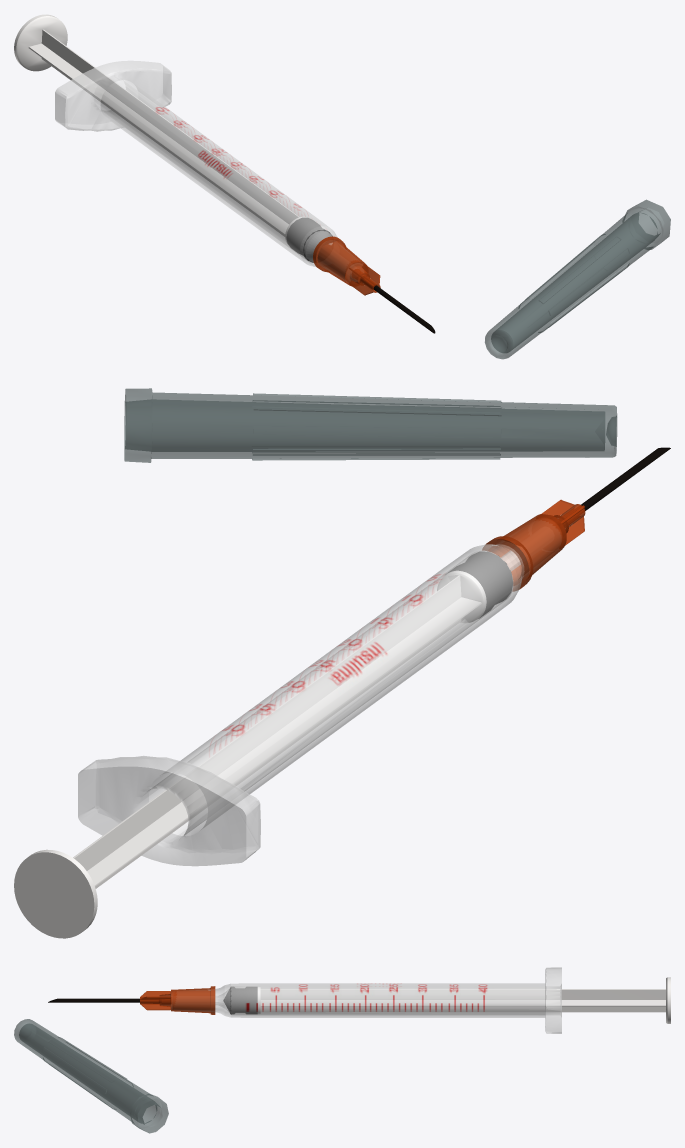
3 views of the same model, one above another, from view 1: azimuth 30°, elevation 25°; view 2: azimuth 150°, elevation 25°; view 3: azimuth 270°, elevation 25° (orthographic). The views are drawn at different scales.
Visible parts, largest first — view 1: D7014BOT, D7014BO2, D7014HOO, D7014NE2, D7014BO1; view 2: D7014BOT, D7014HOO, D7014BO2, D7014NE2, D7014BO1, D7014NEE; view 3: D7014BOT, D7014BO2, D7014HOO, D7014NE2, D7014BO1, D7014NEE.
Boxes of the visible parts, <box> form: D7014BOT: <box>55,60,356,278</box>; D7014BO2: <box>14,14,306,243</box>; D7014HOO: <box>485,199,670,359</box>; D7014NE2: <box>313,236,380,295</box>; D7014BO1: <box>286,218,332,262</box>; D7014BOT: <box>78,527,551,866</box>; D7014HOO: <box>124,388,617,462</box>; D7014BO2: <box>14,571,486,938</box>; D7014NE2: <box>482,499,585,591</box>; D7014BO1: <box>445,551,512,618</box>; D7014NEE: <box>581,447,670,510</box>; D7014BOT: <box>190,967,561,1033</box>; D7014BO2: <box>258,977,670,1023</box>; D7014HOO: <box>14,1019,168,1133</box>; D7014NE2: <box>140,986,215,1014</box>; D7014BO1: <box>223,987,257,1014</box>; D7014NEE: <box>48,998,139,1002</box>.
Size of the model in its own units: 3176 by 521 by 6606.
6 materials, 1 textured.
